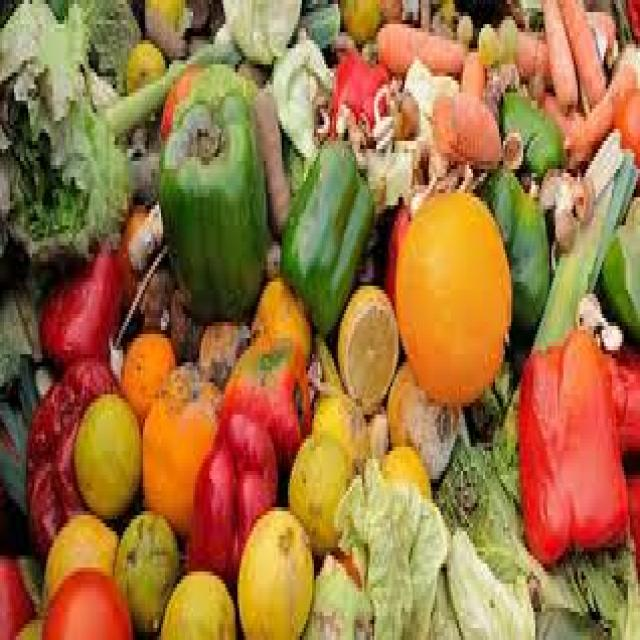organic waste: (0, 0, 638, 636), (493, 133, 634, 475), (489, 378, 638, 636), (0, 0, 141, 258), (99, 0, 338, 129), (434, 443, 584, 612), (517, 330, 628, 556), (157, 89, 266, 318), (393, 185, 507, 399), (330, 455, 447, 636), (22, 354, 125, 548), (280, 129, 370, 322), (187, 406, 280, 580), (139, 358, 219, 536), (219, 326, 310, 471), (36, 238, 127, 374), (479, 153, 547, 326), (233, 503, 316, 636), (443, 519, 533, 636), (382, 354, 457, 479), (334, 274, 399, 411), (72, 390, 141, 516), (286, 426, 354, 552), (566, 44, 636, 165), (111, 507, 179, 628), (272, 36, 332, 169), (0, 253, 50, 398), (115, 201, 171, 330), (247, 262, 312, 370), (249, 76, 290, 234), (499, 85, 562, 185), (40, 568, 131, 636), (302, 551, 374, 636), (602, 189, 638, 358), (304, 382, 368, 475), (360, 16, 461, 73), (157, 563, 235, 636), (44, 511, 117, 588), (0, 354, 34, 515), (219, 0, 301, 64), (427, 89, 495, 165), (330, 44, 384, 129), (557, 0, 602, 101), (537, 0, 578, 109), (121, 326, 171, 415), (606, 338, 638, 467), (366, 133, 423, 201), (0, 555, 46, 635), (402, 56, 457, 121), (197, 314, 248, 378), (610, 73, 638, 181), (165, 278, 201, 362), (382, 201, 408, 314), (138, 0, 193, 52), (127, 125, 161, 201), (382, 439, 431, 491), (427, 559, 459, 636), (295, 0, 338, 52), (123, 32, 161, 89), (481, 56, 515, 117), (125, 201, 159, 262), (540, 80, 576, 137), (338, 0, 382, 44), (622, 459, 638, 575), (586, 4, 618, 60), (386, 84, 416, 137), (312, 330, 338, 391), (550, 193, 576, 254), (536, 165, 574, 205), (532, 24, 554, 93), (568, 161, 592, 221), (457, 44, 483, 93), (368, 84, 388, 145), (598, 314, 628, 354), (475, 16, 497, 65), (576, 286, 600, 330), (360, 149, 382, 197), (516, 24, 534, 77), (495, 8, 513, 60), (334, 92, 356, 133), (260, 229, 280, 270), (497, 129, 521, 161), (187, 0, 211, 28), (348, 125, 362, 161), (376, 0, 401, 20), (520, 161, 534, 193), (457, 8, 469, 40), (439, 0, 453, 16)
